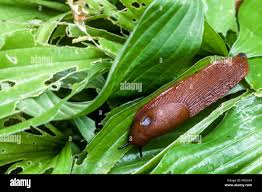slug: (121, 55, 247, 154)
